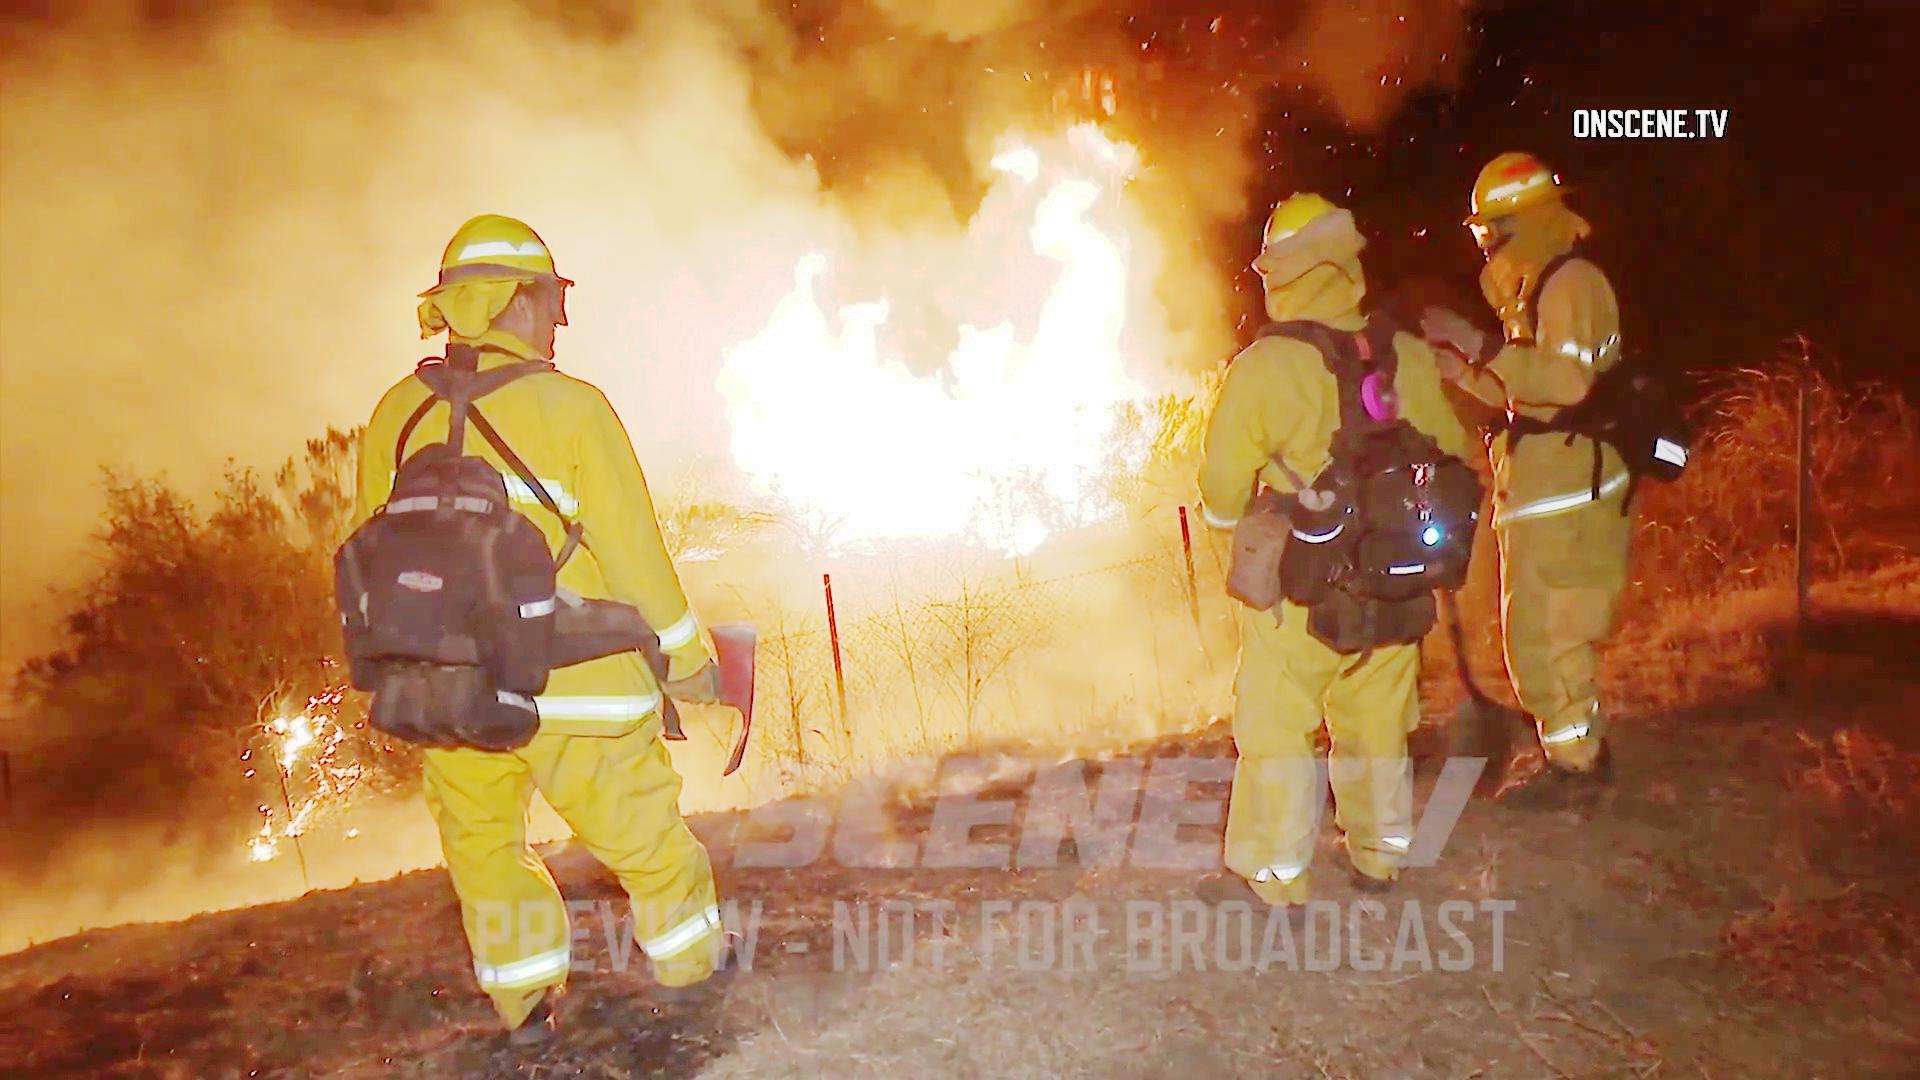fire: (729, 83, 1160, 549)
smoke: (0, 0, 583, 193)
